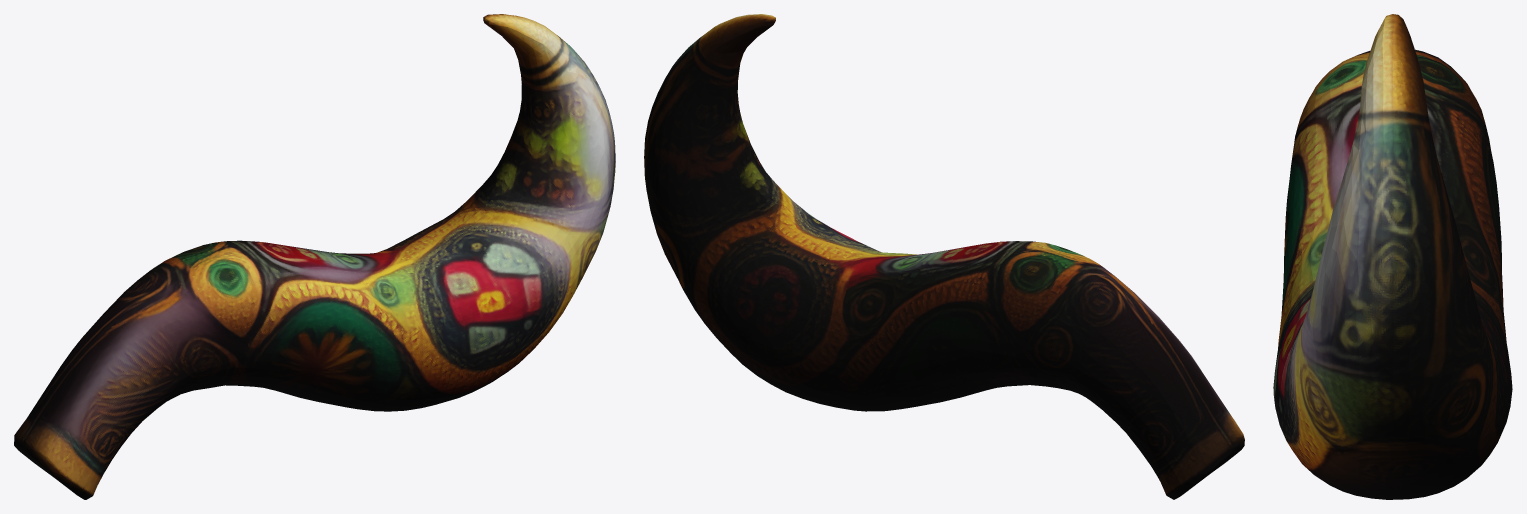
The model's file is horn-didgeridoo-3d.jpeg.glb.
The picture shows the model from 3 angles, left to right: view 1: azimuth 30°, elevation 25°; view 2: azimuth 150°, elevation 25°; view 3: azimuth 270°, elevation 25°; orthographic projection. The views are drawn at different scales.
Visible parts, largest first — view 1: world; view 2: world; view 3: world.
Part boxes in pixels (<box>): world: <box>14,14,615,499</box>; world: <box>644,14,1244,499</box>; world: <box>1273,14,1512,499</box>.
Size of the model in its own units: 0.9994 by 0.618 by 0.2525.
Materials: 1 (1 with a texture image).
